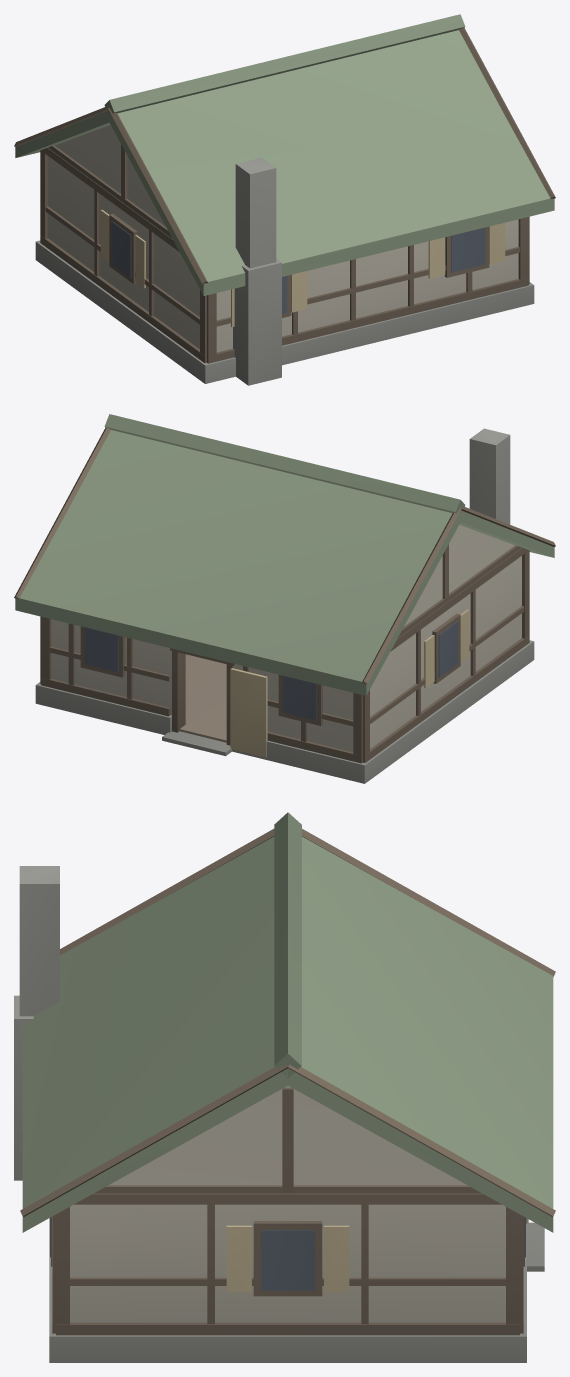
The model's file is open_house_green.gltf.
The picture shows the model from 3 angles, top to bottom: view 1: azimuth 30°, elevation 25°; view 2: azimuth 150°, elevation 25°; view 3: azimuth 270°, elevation 25°; orthographic projection. The views are drawn at different scales.
Visible parts, largest first — view 1: Body; view 2: Body; view 3: Body.
Part boxes in pixels (left/top/right/bottom): Body: left=14, top=14, right=555, bottom=385; Body: left=14, top=414, right=555, bottom=783; Body: left=14, top=812, right=555, bottom=1362.
Size of the model in its own units: 9.97 by 6.06 by 9.39.
